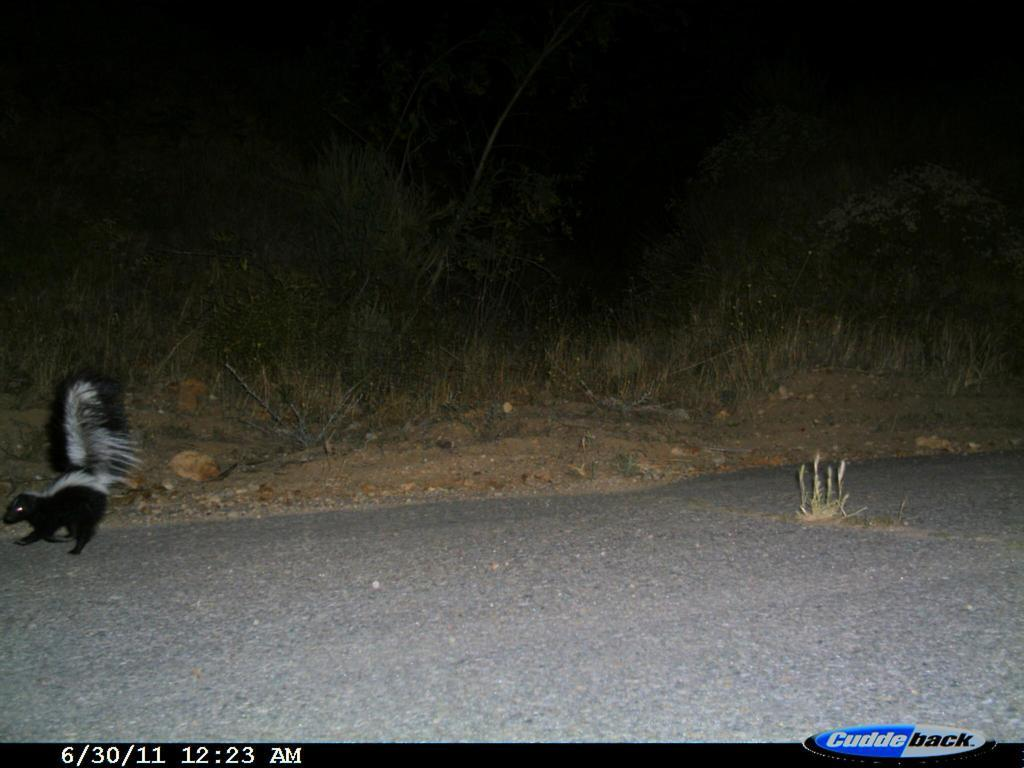skunk: (8, 363, 130, 564)
